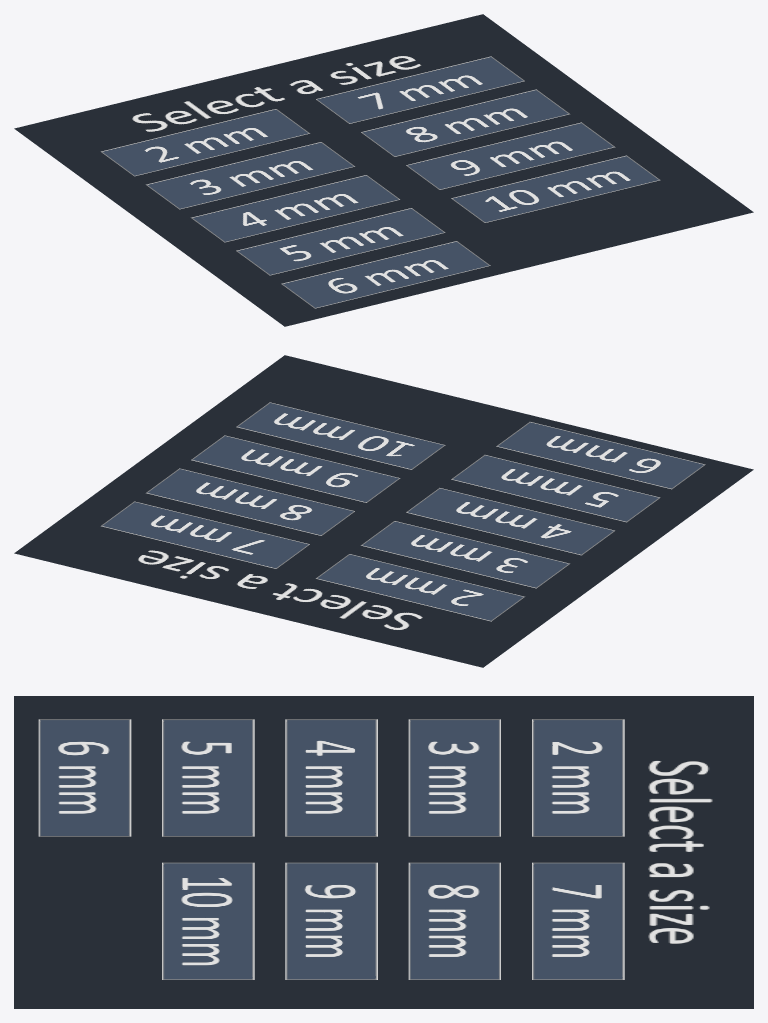
The model's file is AllenKeyMenu.glb.
3 views of the same model, one above another, from view 1: azimuth 30°, elevation 25°; view 2: azimuth 150°, elevation 25°; view 3: azimuth 270°, elevation 25° (orthographic). The views are drawn at different scales.
Parts seen in each view (by area): view 1: Plane, Plane.009, Plane.008, Plane.003, Plane.006, Plane.007, Plane.004, Plane.001, Plane.002, Plane.005; view 2: Plane, Plane.006, Plane.007, Plane.001, Plane.002, Plane.005, Plane.009, Plane.003, Plane.008, Plane.004; view 3: Plane, Plane.009, Plane.001, Plane.003, Plane.004, Plane.005, Plane.006, Plane.007, Plane.008, Plane.002.
Boxes of the visible parts, box(x1,y1,x2,y2) form: Plane: box(14, 14, 753, 326); Plane.009: box(281, 241, 490, 308); Plane.008: box(236, 208, 445, 275); Plane.003: box(316, 56, 524, 123); Plane.006: box(406, 122, 615, 189); Plane.007: box(451, 155, 660, 222); Plane.004: box(101, 109, 309, 176); Plane.001: box(146, 142, 354, 209); Plane.002: box(361, 89, 569, 156); Plane.005: box(191, 175, 399, 242); Plane: box(14, 355, 753, 667); Plane.006: box(191, 435, 400, 502); Plane.007: box(236, 402, 445, 469); Plane.001: box(361, 521, 569, 588); Plane.002: box(146, 468, 354, 535); Plane.005: box(406, 488, 614, 555); Plane.009: box(496, 422, 705, 489); Plane.003: box(101, 501, 309, 568); Plane.008: box(451, 455, 660, 522); Plane.004: box(316, 554, 524, 621); Plane: box(14, 696, 753, 1008); Plane.009: box(38, 719, 131, 836); Plane.001: box(408, 719, 500, 836); Plane.003: box(532, 862, 624, 979); Plane.004: box(532, 719, 624, 836); Plane.005: box(285, 719, 377, 836); Plane.006: box(285, 862, 377, 979); Plane.007: box(162, 862, 254, 979); Plane.008: box(162, 719, 254, 836); Plane.002: box(408, 862, 500, 979).
Bounding box in the file's own units: 0.24 × 0.001 × 0.24.
10 materials, 10 textured.
